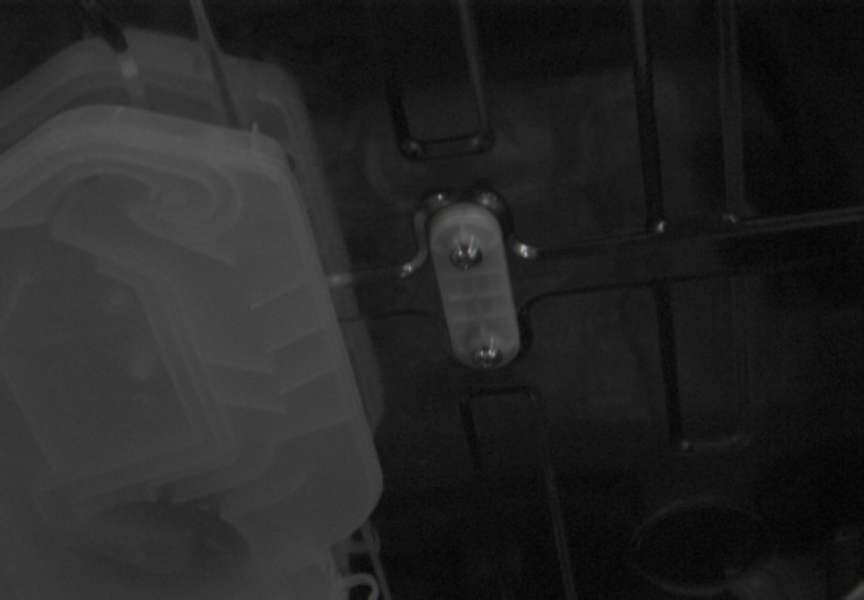screw: (450, 239, 483, 270), (472, 344, 503, 369)
